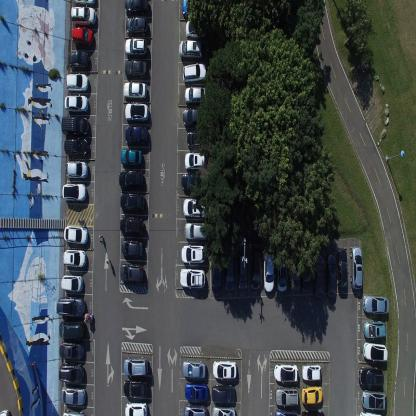car: (182, 196, 211, 218), (56, 295, 85, 317), (179, 267, 206, 289), (58, 319, 85, 341), (61, 115, 89, 136), (70, 5, 96, 27), (58, 362, 84, 384), (182, 106, 209, 127), (276, 243, 288, 290), (212, 358, 237, 380), (359, 366, 384, 388), (122, 377, 148, 398), (313, 253, 325, 298), (300, 248, 312, 292), (120, 192, 144, 214), (119, 168, 143, 190), (124, 101, 148, 123), (350, 246, 362, 290), (250, 246, 262, 290), (274, 385, 298, 407), (119, 263, 144, 284), (182, 62, 207, 83), (211, 383, 236, 404), (363, 341, 388, 362), (180, 243, 206, 263), (60, 386, 86, 406), (363, 294, 389, 314), (361, 390, 387, 410), (72, 26, 95, 48), (119, 215, 143, 236), (124, 15, 148, 36), (63, 247, 87, 268), (274, 362, 298, 383), (178, 39, 203, 59), (181, 0, 208, 18), (124, 35, 146, 57), (119, 147, 142, 168), (124, 124, 147, 145), (185, 381, 208, 402), (122, 80, 146, 100), (64, 72, 88, 92), (181, 172, 205, 192), (124, 58, 148, 78), (124, 355, 148, 375), (63, 160, 88, 179), (61, 183, 86, 202), (64, 94, 89, 113), (63, 225, 88, 244), (59, 342, 84, 361), (337, 247, 347, 294), (184, 18, 210, 36), (302, 384, 324, 405), (212, 252, 222, 298), (326, 252, 336, 298), (264, 246, 274, 292), (67, 50, 90, 70), (64, 138, 89, 156), (184, 150, 206, 170), (121, 239, 143, 259), (184, 85, 206, 105), (225, 248, 235, 292), (182, 359, 205, 378), (363, 320, 386, 339), (60, 274, 84, 292), (184, 222, 209, 239), (238, 247, 248, 289), (290, 247, 300, 288), (186, 130, 208, 148), (301, 363, 322, 381), (124, 0, 148, 15), (124, 401, 148, 415), (183, 404, 208, 415), (212, 405, 236, 415), (62, 408, 86, 416), (274, 408, 298, 415), (301, 408, 325, 415), (75, 0, 96, 7), (358, 410, 383, 415)
